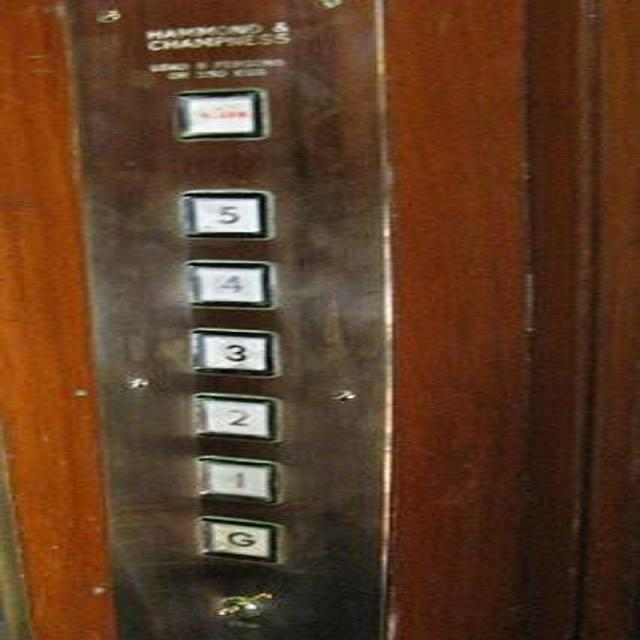1: (190, 454, 282, 506)
2: (188, 392, 283, 444)
3: (187, 326, 280, 378)
4: (180, 259, 277, 310)
5: (177, 189, 276, 241)
G: (195, 514, 282, 565)
switch: (204, 592, 279, 622)
text_blur: (172, 88, 271, 142)
